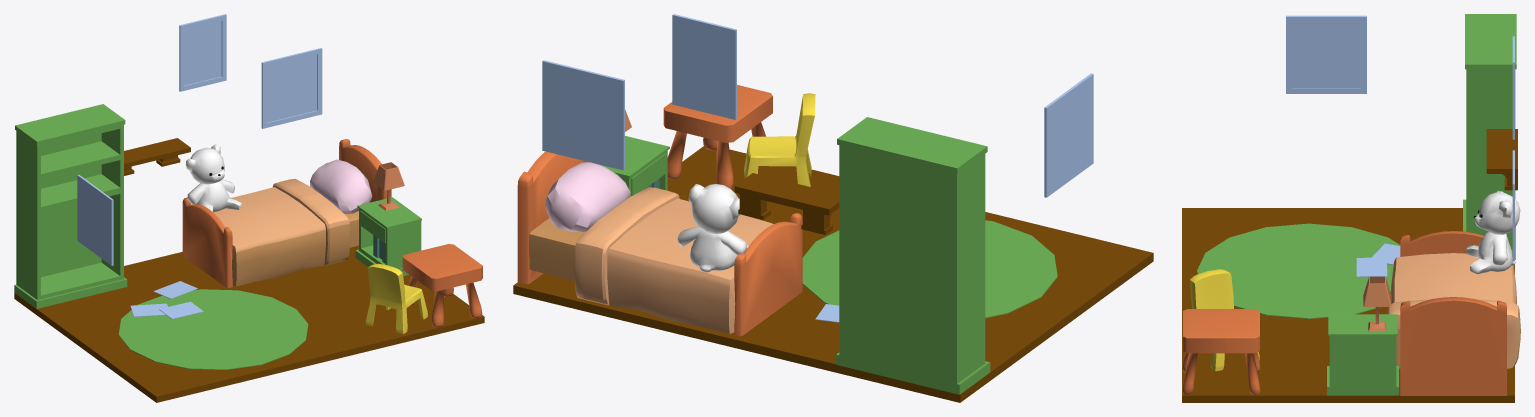
File: PH_ChildRoom_Scene_Fever.fbx
3 renders of one model, left to right at view 1: azimuth 30°, elevation 25°; view 2: azimuth 150°, elevation 25°; view 3: azimuth 270°, elevation 25°, orthographic. The views are drawn at different scales.
Parts seen in each view (by area): view 1: PH_Floor, PH_Library, BedPled, PH_Carpet, PH_Painting, PH_Bed, PH_MiniTable, PH_BedsideTable, PH_MiniChair, TeddyBear, PH_Painting.001, PH_Papers (+1 smaller); view 2: PH_Library, PH_Floor, BedPled, PH_Painting, PH_Bed, PH_Carpet, PH_MiniTable, TeddyBear, PH_Painting.001, PH_MiniChair, PH_BedsideTable; view 3: PH_Floor, PH_Carpet, PH_Bed, PH_Library, PH_Painting, BedPled, PH_BedsideTable, PH_MiniTable, TeddyBear, PH_MiniChair, PH_Painting.001, PH_Lamp (+1 smaller).
Part boxes in pixels (<box>): PH_Floor: <box>14,245,484,402</box>; PH_Library: <box>14,104,127,308</box>; BedPled: <box>213,159,372,286</box>; PH_Carpet: <box>118,289,308,369</box>; PH_Painting: <box>77,14,322,265</box>; PH_Bed: <box>182,139,391,288</box>; PH_MiniTable: <box>402,244,482,327</box>; PH_BedsideTable: <box>355,197,421,275</box>; PH_MiniChair: <box>365,263,427,334</box>; TeddyBear: <box>185,144,241,212</box>; PH_Painting.001: <box>124,138,190,175</box>; PH_Papers: <box>130,281,203,319</box>; PH_Library: <box>836,117,990,394</box>; PH_Floor: <box>513,146,1153,402</box>; BedPled: <box>529,162,773,333</box>; PH_Painting: <box>542,14,1093,197</box>; PH_Bed: <box>517,151,802,336</box>; PH_Carpet: <box>802,220,1057,318</box>; PH_MiniTable: <box>663,85,772,189</box>; TeddyBear: <box>677,184,748,272</box>; PH_Painting.001: <box>734,173,839,234</box>; PH_MiniChair: <box>744,93,815,186</box>; PH_BedsideTable: <box>601,136,669,196</box>; PH_Floor: <box>1182,208,1514,402</box>; PH_Carpet: <box>1197,223,1400,318</box>; PH_Bed: <box>1400,231,1506,395</box>; PH_Library: <box>1463,14,1516,259</box>; PH_Painting: <box>1286,15,1514,261</box>; BedPled: <box>1387,253,1520,368</box>; PH_BedsideTable: <box>1327,314,1398,395</box>; PH_MiniTable: <box>1182,309,1260,394</box>; TeddyBear: <box>1466,190,1520,273</box>; PH_MiniChair: <box>1190,269,1259,371</box>; PH_Painting.001: <box>1486,129,1517,190</box>; PH_Lamp: <box>1363,276,1391,331</box>.
Bounding box in the file's own units: 4.01 × 2.72 × 3.05.
